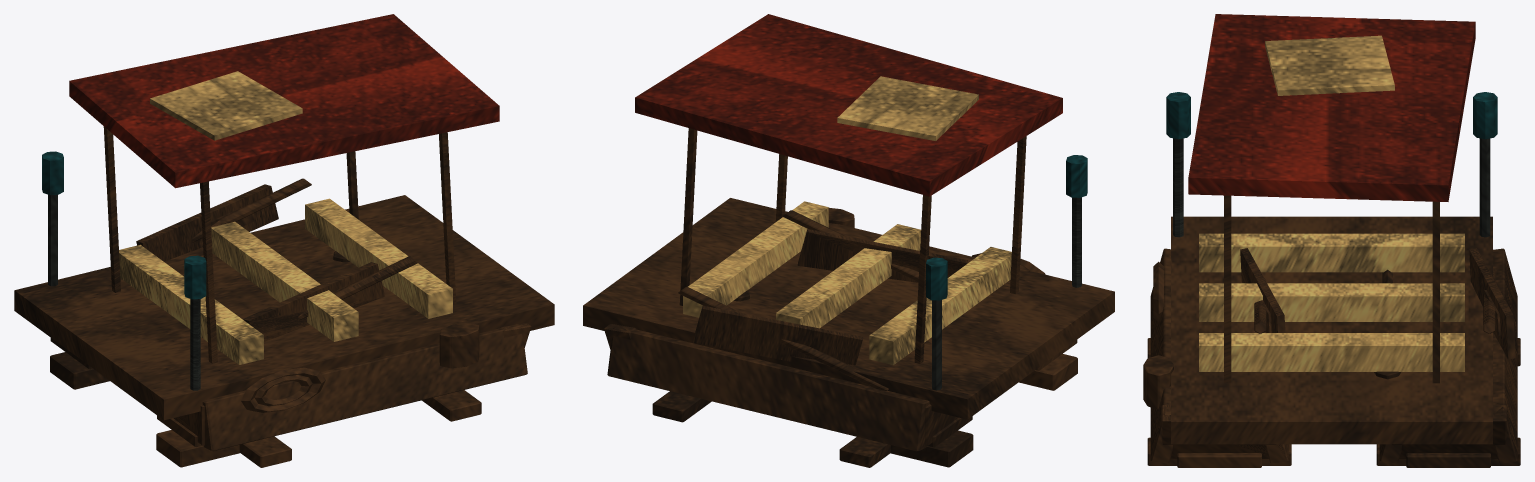
Rendered from spectator-raft-port.glb.
The picture shows the model from 3 angles, left to right: view 1: azimuth 30°, elevation 25°; view 2: azimuth 150°, elevation 25°; view 3: azimuth 270°, elevation 25°; orthographic projection. The views are drawn at different scales.
Visible parts, largest first — view 1: spectator-raft-port; view 2: spectator-raft-port; view 3: spectator-raft-port.
Boxes of the visible parts, left/top/right/bottom form: spectator-raft-port: left=14, top=14, right=554, bottom=467; spectator-raft-port: left=583, top=14, right=1114, bottom=467; spectator-raft-port: left=1143, top=14, right=1520, bottom=467.
Bounding box in the file's own units: 4.75 × 3.39 × 3.69.
1 material, 1 textured.
